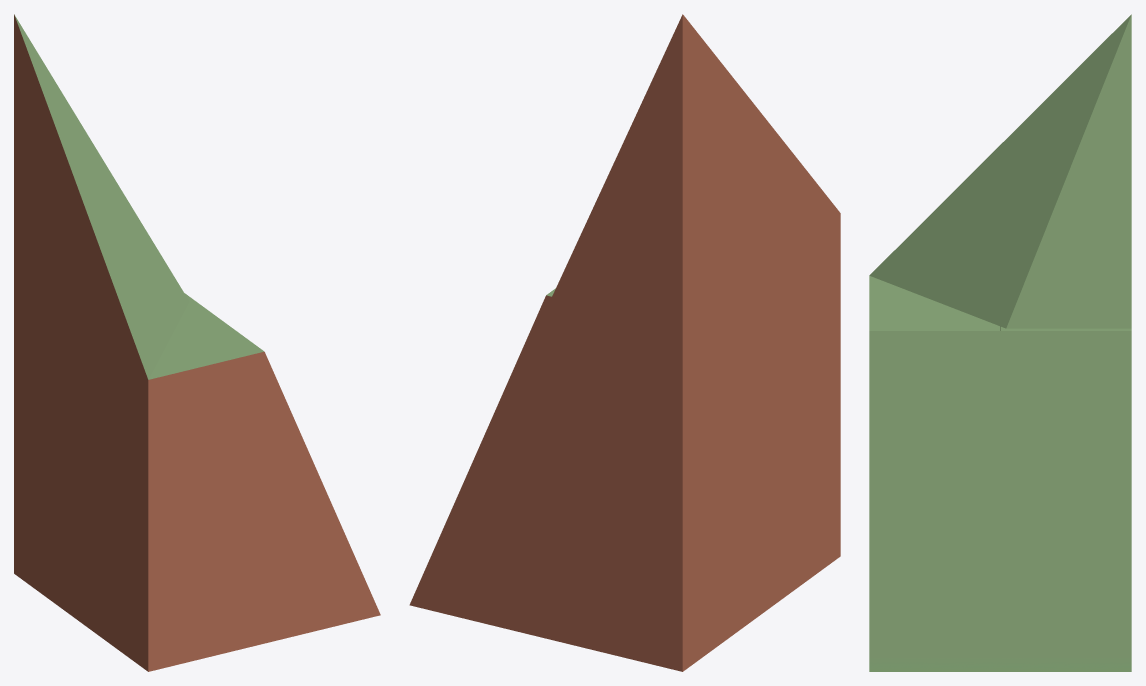
The model's file is Cenarios.fbx_Grounds_Inclinados_12X.fbx.
3 views of the same model, side by side, from view 1: azimuth 30°, elevation 25°; view 2: azimuth 150°, elevation 25°; view 3: azimuth 270°, elevation 25° (orthographic). The views are drawn at different scales.
Visible parts, largest first — view 1: Ground.Inclinado V2 12X, Ground.Inclinado V3.1 12X, Ground.Inclinado V4 12X, Ground.Inclinado V6 12X, Ground.Inclinado V3 12X; view 2: Ground.Inclinado V3.1 12X, Ground.Inclinado V2 12X, Ground.Inclinado V3 12X, Ground.Inclinado V1.1 12X, Ground.Inclinado V4 12X, Ground.Inclinado V6 12X, Ground.Inclinado V2.1 12X, Ground.Inclinado V5 12X; view 3: Ground.Inclinado V2 12X, Ground.Inclinado V3.1 12X, Ground.Inclinado V6 12X, Ground.Inclinado V1 12X.
Part boxes in pixels (x1,y1,x2,y2): Ground.Inclinado V2 12X: [14, 282, 380, 671]; Ground.Inclinado V3.1 12X: [14, 14, 379, 671]; Ground.Inclinado V4 12X: [14, 282, 263, 670]; Ground.Inclinado V6 12X: [14, 284, 196, 670]; Ground.Inclinado V3 12X: [14, 310, 146, 668]; Ground.Inclinado V3.1 12X: [410, 14, 840, 671]; Ground.Inclinado V2 12X: [409, 213, 840, 671]; Ground.Inclinado V3 12X: [548, 330, 837, 671]; Ground.Inclinado V1.1 12X: [410, 331, 682, 665]; Ground.Inclinado V4 12X: [682, 214, 839, 665]; Ground.Inclinado V6 12X: [410, 289, 839, 666]; Ground.Inclinado V2.1 12X: [436, 330, 682, 669]; Ground.Inclinado V5 12X: [546, 296, 682, 670]; Ground.Inclinado V2 12X: [869, 276, 1131, 671]; Ground.Inclinado V3.1 12X: [869, 14, 1131, 328]; Ground.Inclinado V6 12X: [870, 326, 1131, 671]; Ground.Inclinado V1 12X: [870, 332, 1131, 671].
Bounding box in the file's own units: 1000 × 2300 × 1000.
